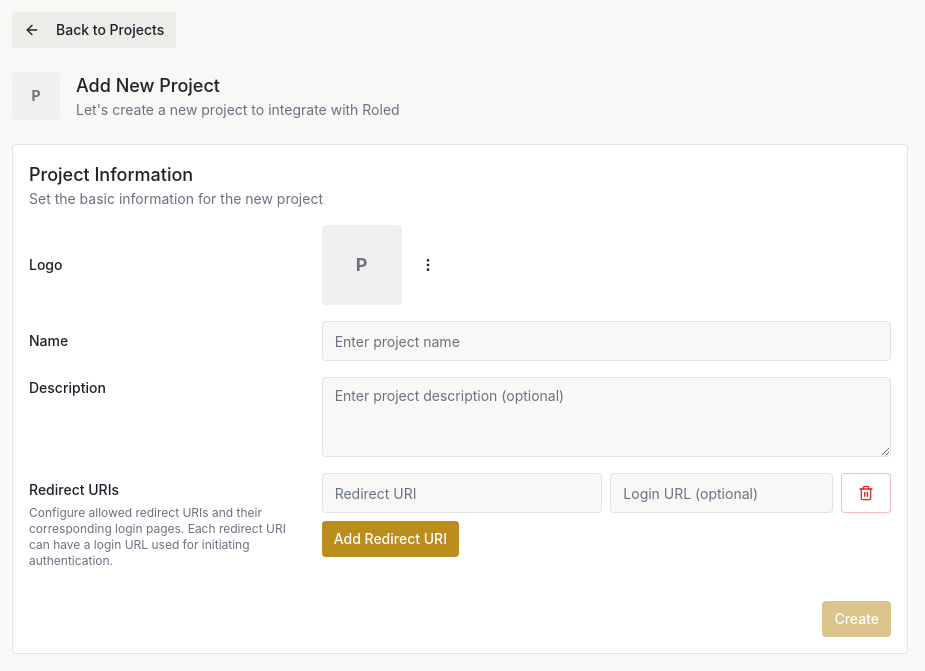
Test: NewProject Page › shows loading state while creating project
Expected: the heading "Add New Project" is shown, [76, 75, 220, 96]
Type "Test Project" into the field labelled "Name".
click(606, 341); type("Test Project")  # box [322, 321, 891, 361]
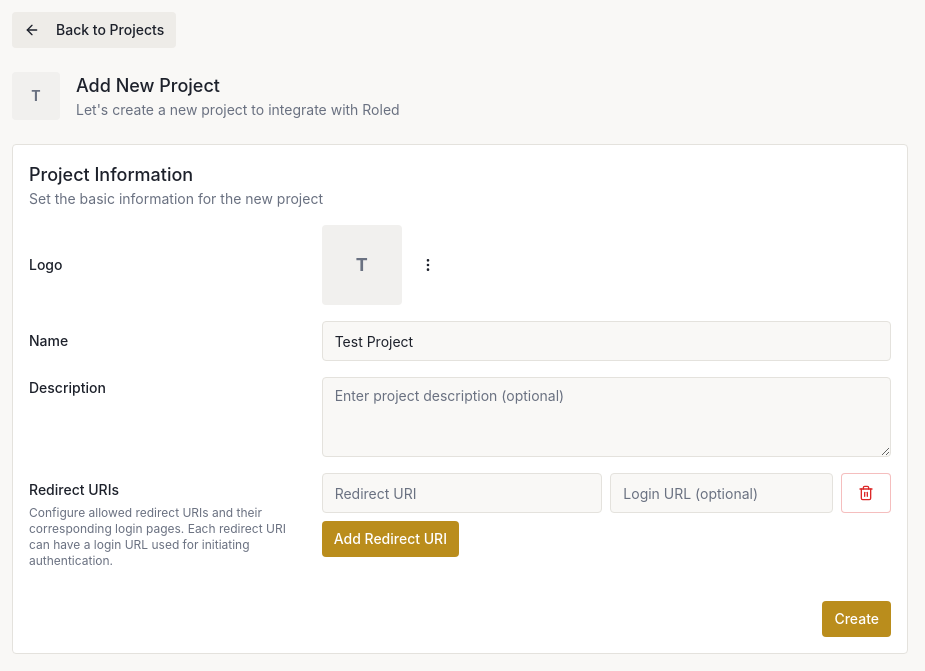
Type "http://localhost:4000/callback" into the field with placeholder "Redirect URI".
click(462, 493); type("http://localhost:4000/callback")  # box [322, 473, 602, 513]
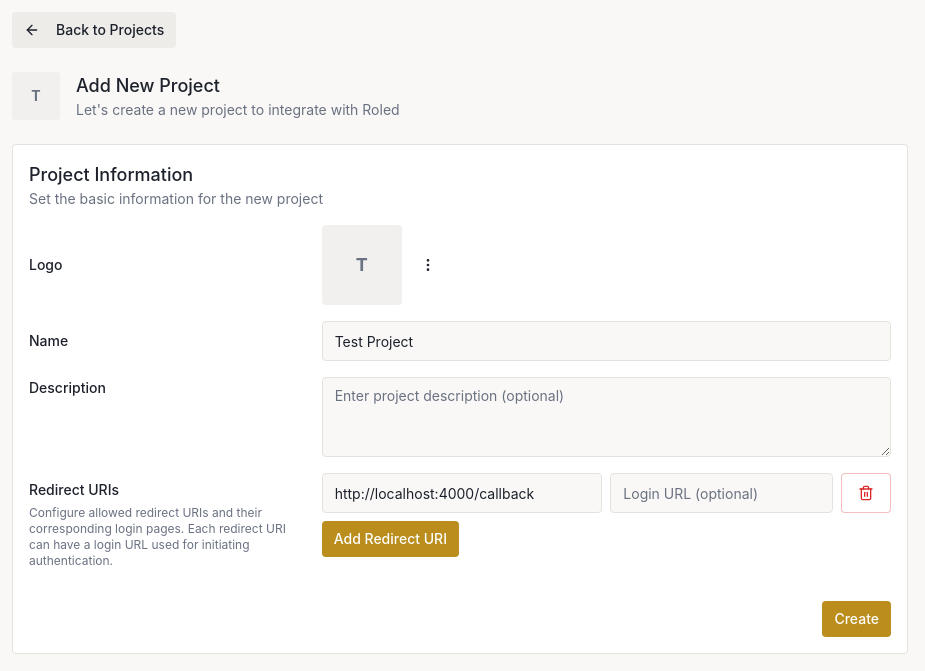
Click the button "Create".
click(857, 619)  # box [822, 601, 891, 637]
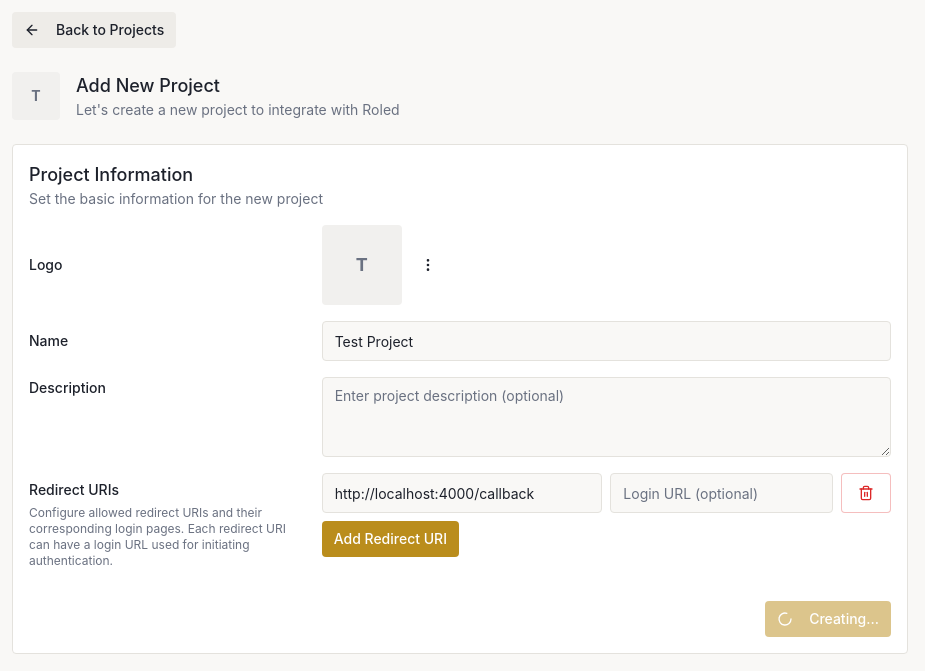
Result: the button "Creating..." is shown at [765, 601, 891, 637]
